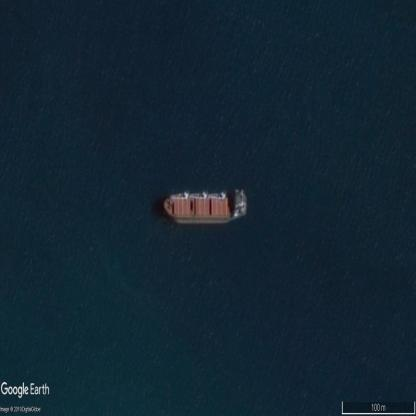ship: (164, 191, 247, 223)
